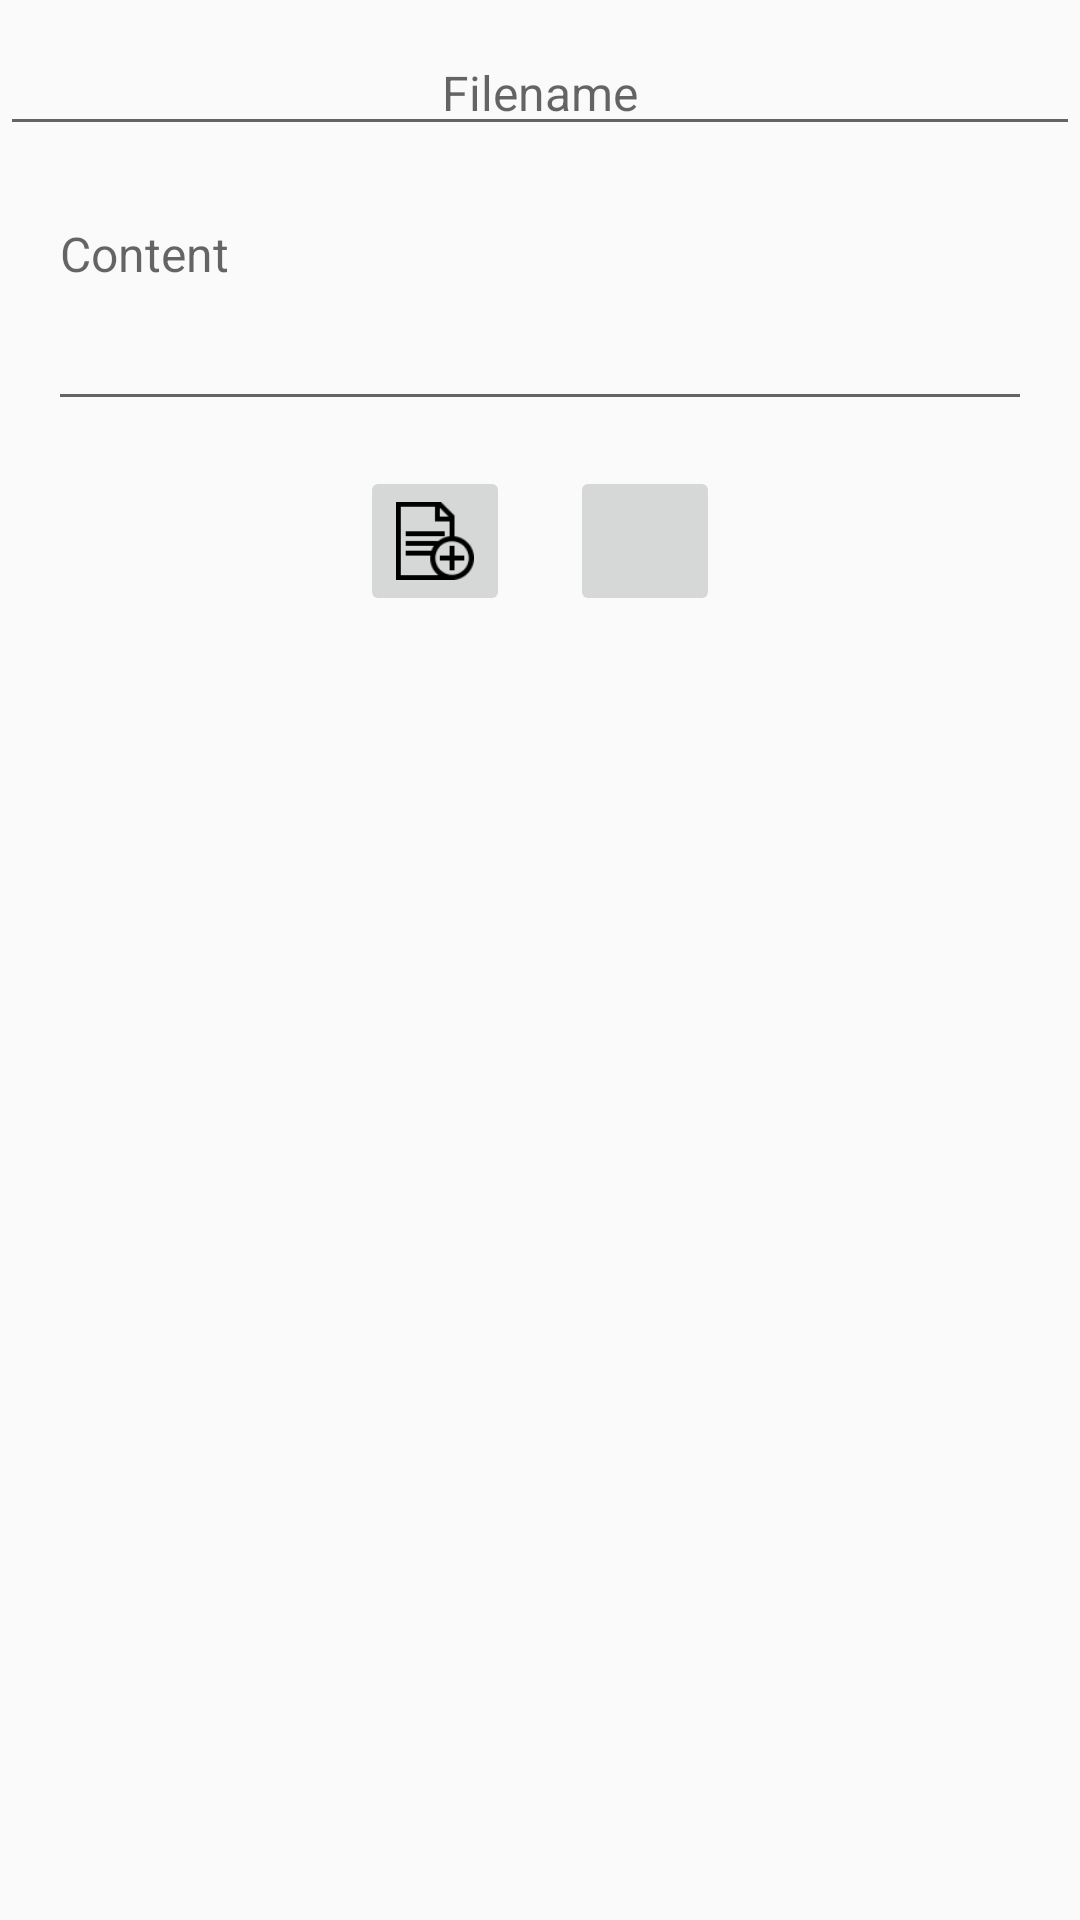

Where icons sit on this 1080x1920 app screen, as (x1, y1, x2, y2):
file add: (372, 484, 498, 598)
